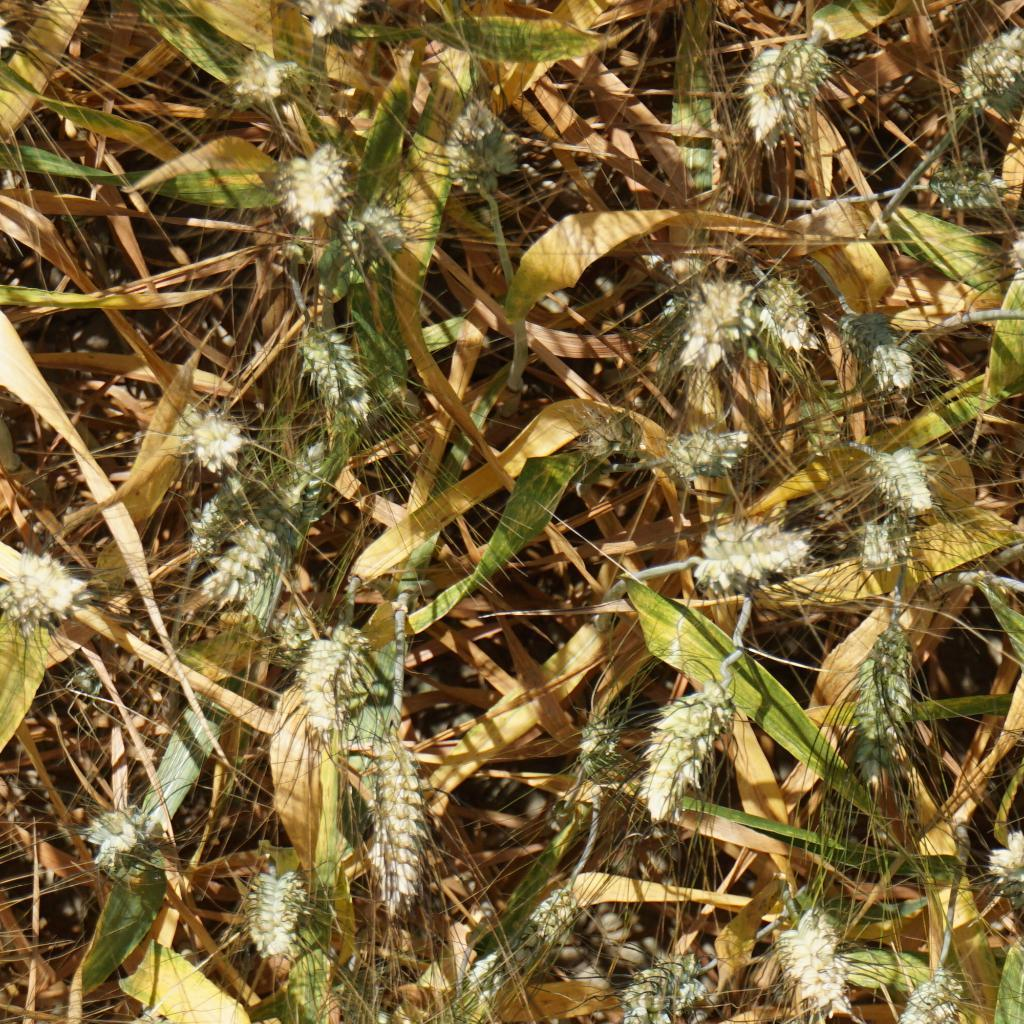0-0: (641, 690, 745, 814), (364, 727, 437, 901), (845, 626, 921, 792), (438, 84, 526, 209), (471, 900, 578, 995), (662, 276, 759, 376), (775, 908, 857, 1013), (303, 329, 386, 427), (696, 514, 809, 585), (299, 623, 368, 736), (572, 394, 659, 476), (620, 939, 701, 1024), (267, 137, 353, 214), (662, 423, 760, 489), (841, 301, 909, 391), (959, 26, 1024, 120), (752, 272, 822, 359), (337, 189, 409, 271), (197, 520, 274, 596), (863, 444, 940, 519), (0, 559, 76, 634), (741, 44, 793, 146), (86, 800, 160, 870), (921, 154, 1006, 211), (246, 870, 302, 956), (900, 961, 967, 1024), (564, 715, 627, 779), (189, 474, 240, 551), (286, 446, 333, 527), (776, 38, 833, 104), (224, 53, 299, 101), (188, 406, 248, 463), (982, 830, 1024, 905), (264, 604, 311, 662), (303, 0, 371, 38), (856, 517, 909, 565), (0, 0, 29, 74), (1004, 206, 1024, 290)
